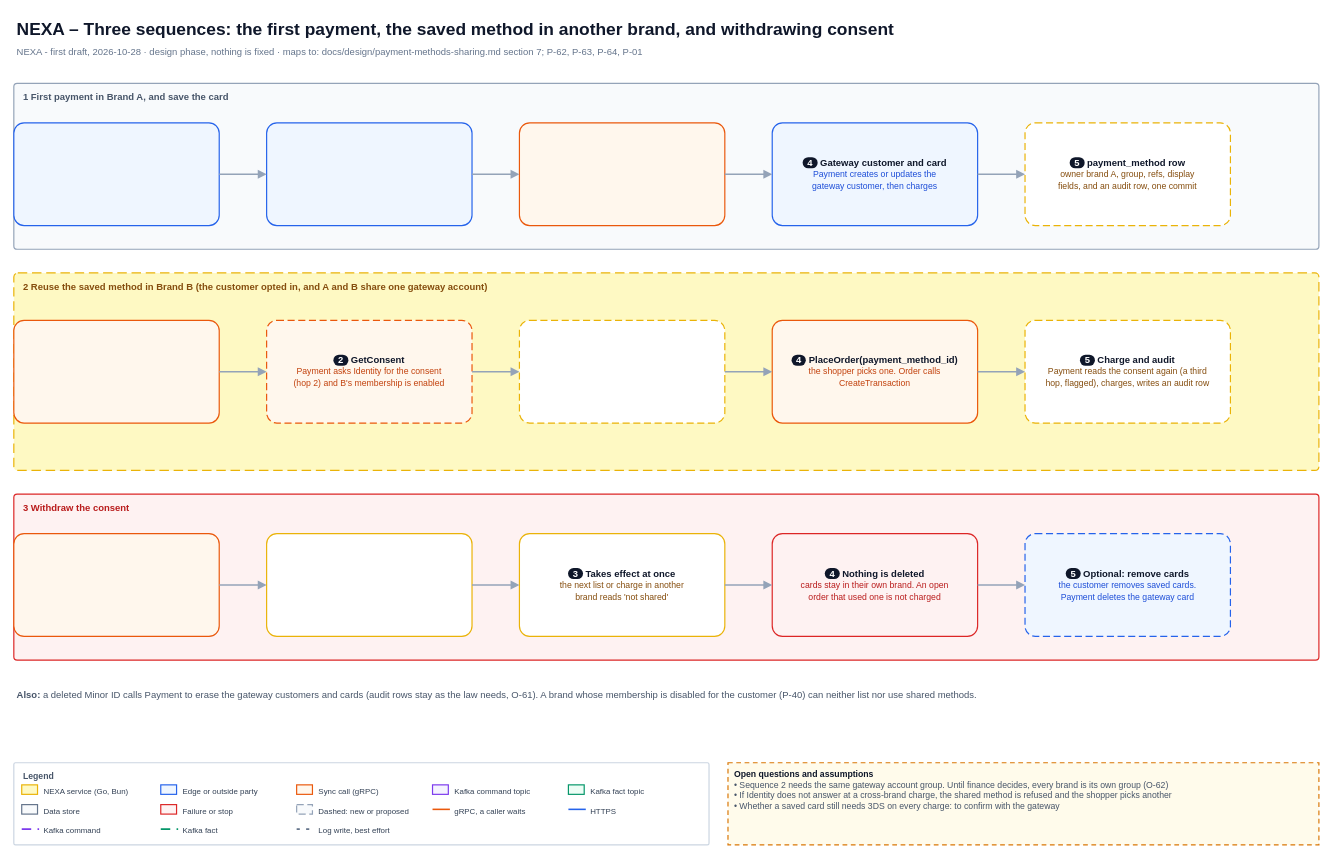
Image size: 1334x859. Some labels were removed from this diagram. The centre of each missing label's shape, as x and y in pixels:
1 Card form Omise.js in the browser, Brand A's public key: [116,174]
1 ListPaymentMethods customer-bff of B asks Payment. Hop 1: [116,371]
1 SetConsent(withdrawn) the app calls Identity through customer-bff, with a key: [116,585]
2 Identity records it consent row and audit, one transaction. Publishes nothing: [369,585]
2 Token single use. NEXA sees only the token: [369,174]
3 CreateTransaction Order to Payment with the token and save = true, with a key: [621,174]
3 List own and shared shared methods only if granted and the same account group: [621,371]
